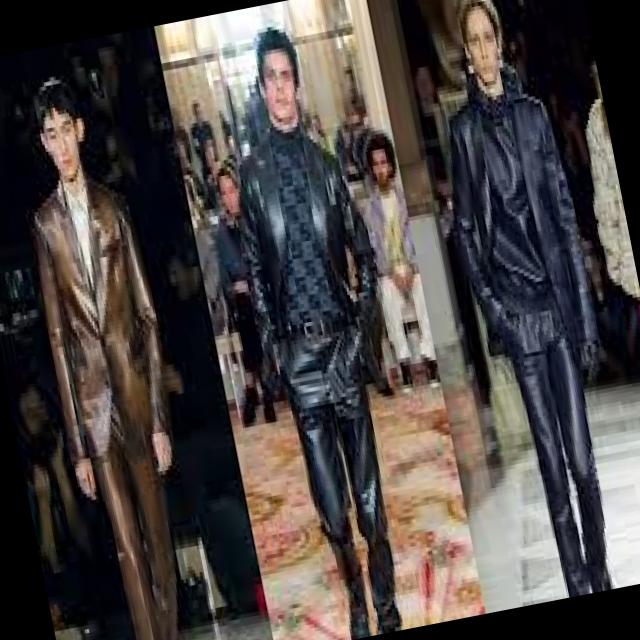Jacket: (32, 156, 246, 489), (224, 118, 398, 410), (432, 66, 608, 344)
